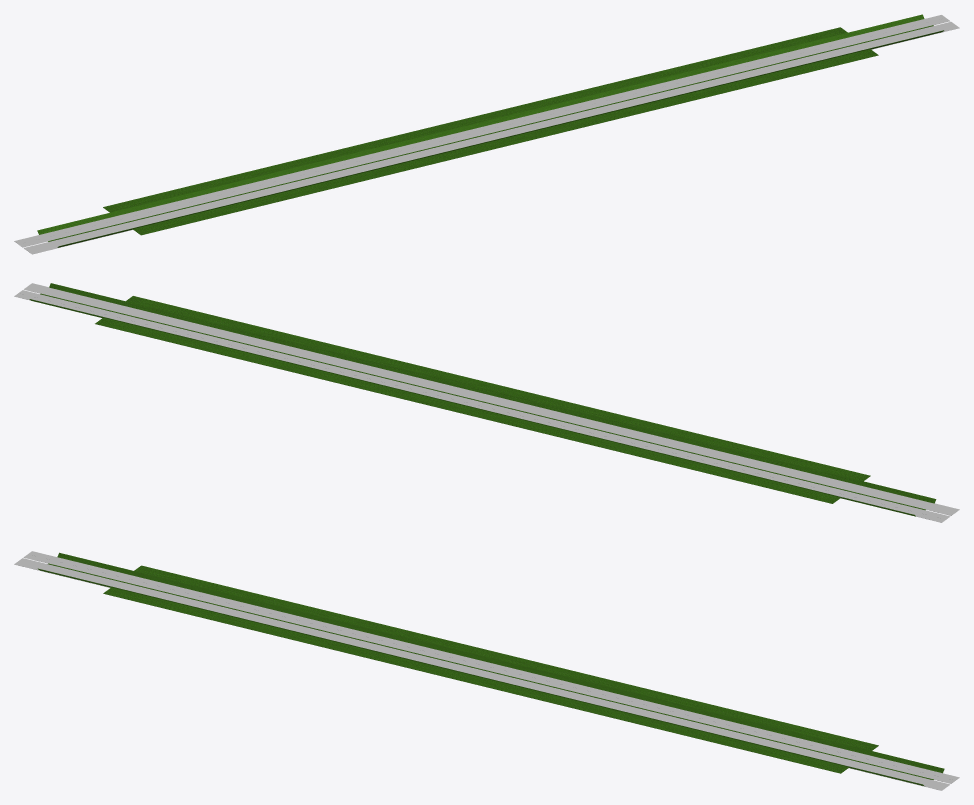
File: bonus2.glb
The picture shows the model from 3 angles, top to bottom: view 1: azimuth 30°, elevation 25°; view 2: azimuth 150°, elevation 25°; view 3: azimuth 330°, elevation 25°; orthographic projection.
Visible parts, largest first — view 1: Box_4, Box_5, Box_1, Plane002__0_1_4_3, Plane002__0_1_4, Plane002__0_1_4_2, Plane002__0_1_4_1, Box_2, Box, Box_3; view 2: Box_5, Box_4, Box_3, Plane002__0_1_4_2, Plane002__0_1_4, Plane002__0_1_4_1, Plane002__0_1_4_3, Box, Box_1; view 3: Box_4, Box_5, Plane002__0_1_4_3, Plane002__0_1_4, Plane002__0_1_4_2, Box_1, Box_2, Plane002__0_1_4_1, Box, Box_3.
Part boxes in pixels (x1,y1,x2,y2): Box_4: (133, 49, 878, 235); Box_5: (103, 27, 847, 212); Box_1: (37, 14, 924, 234); Plane002__0_1_4_3: (14, 15, 945, 244); Plane002__0_1_4: (24, 22, 955, 250); Plane002__0_1_4_2: (18, 18, 950, 247); Plane002__0_1_4_1: (28, 25, 959, 254); Box_2: (111, 33, 849, 216); Box: (48, 25, 933, 241); Box_3: (57, 30, 943, 247); Box_5: (95, 317, 840, 503); Box_4: (126, 296, 870, 481); Box_3: (49, 283, 936, 503); Plane002__0_1_4_2: (18, 290, 950, 519); Plane002__0_1_4: (24, 286, 955, 515); Plane002__0_1_4_1: (28, 283, 959, 512); Plane002__0_1_4_3: (14, 293, 945, 522); Box: (40, 293, 925, 510); Box_1: (29, 299, 915, 516); Box_4: (103, 587, 848, 773); Box_5: (134, 565, 878, 750); Plane002__0_1_4_3: (28, 551, 959, 780); Plane002__0_1_4: (18, 558, 949, 787); Plane002__0_1_4_2: (23, 554, 955, 783); Box_1: (57, 552, 944, 773); Box_2: (131, 571, 870, 753); Plane002__0_1_4_1: (14, 561, 945, 790); Box: (48, 563, 933, 779); Box_3: (38, 568, 924, 786).
Size of what is drawn, in the model's own units: 6287 by 21.19 by 450.
2 materials, 1 textured.
